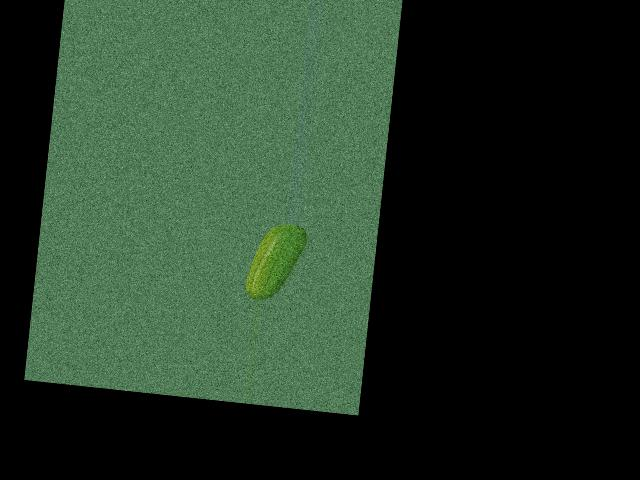cucumber: (244, 220, 308, 304)
